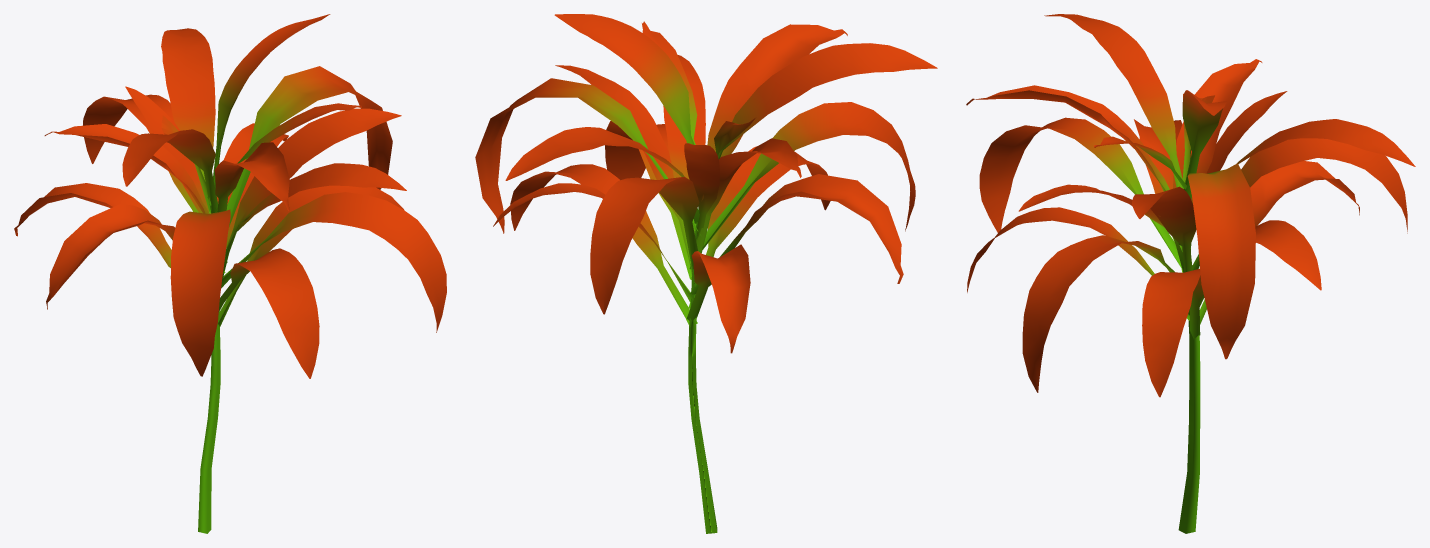
File: Pink Cordyline_LOD0_Var5_sfhhN.fbx
3 views of the same model, side by side, from view 1: azimuth 30°, elevation 25°; view 2: azimuth 150°, elevation 25°; view 3: azimuth 270°, elevation 25° (orthographic). The views are drawn at different scales.
Visible parts, largest first — view 1: _14bf_Var5_LOD0; view 2: _14bf_Var5_LOD0; view 3: _14bf_Var5_LOD0.
Boxes of the visible parts, x1,y1,x2,y2 form: _14bf_Var5_LOD0: (14, 14, 446, 533); _14bf_Var5_LOD0: (475, 14, 937, 533); _14bf_Var5_LOD0: (966, 14, 1415, 533).
Size of the model in its own units: 86.39 by 105 by 87.73.
